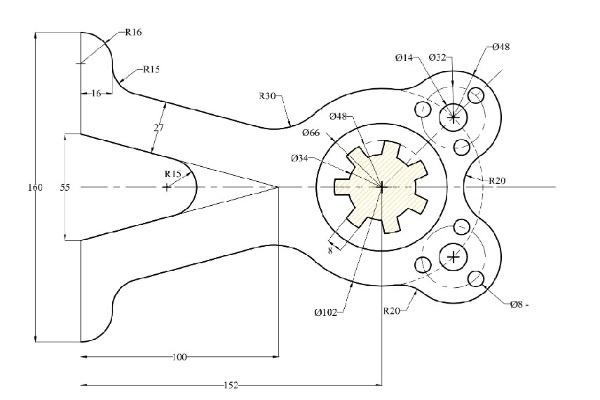dimensions: (312, 304, 343, 321), (486, 38, 513, 54), (123, 23, 145, 42), (220, 375, 244, 392), (253, 87, 278, 103), (426, 46, 449, 63), (170, 349, 191, 367), (392, 48, 416, 63), (160, 167, 185, 181), (288, 149, 310, 164), (381, 303, 404, 317), (508, 296, 525, 314), (299, 125, 322, 138), (56, 179, 73, 195), (328, 109, 350, 121), (141, 62, 161, 75), (25, 182, 46, 194), (487, 174, 506, 186), (151, 119, 167, 133), (89, 86, 104, 99)
